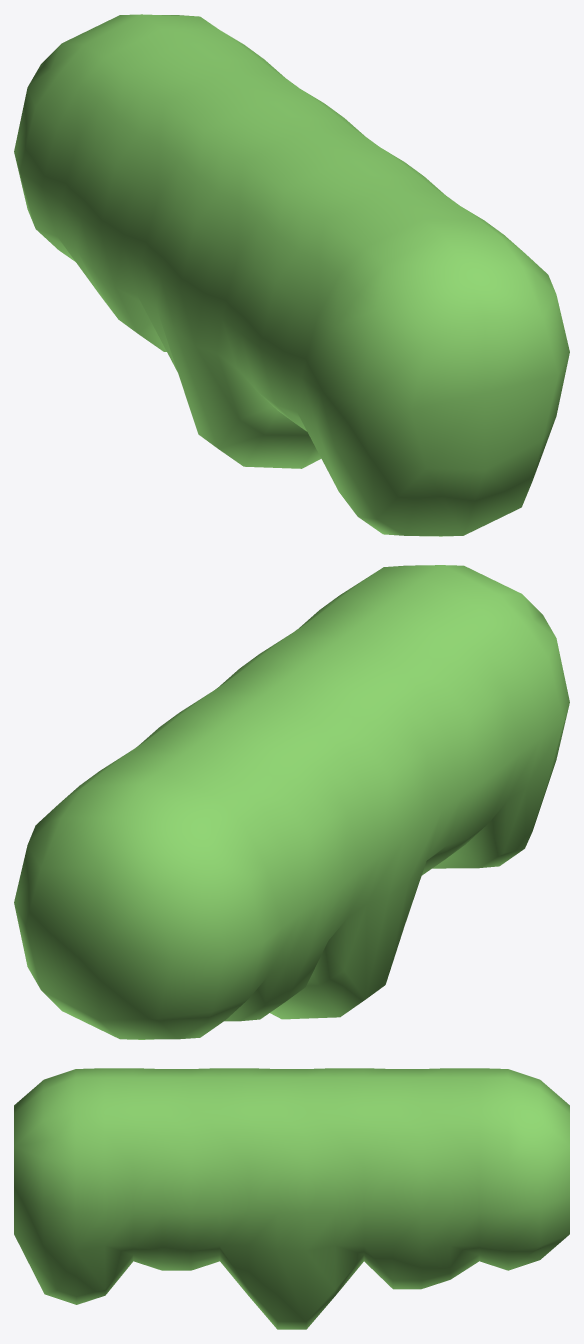
The model's file is grass_proto.fbx.
The picture shows the model from 3 angles, top to bottom: view 1: azimuth 30°, elevation 25°; view 2: azimuth 150°, elevation 25°; view 3: azimuth 270°, elevation 25°; orthographic projection. The views are drawn at different scales.
Parts seen in each view (by area): view 1: Cube; view 2: Cube; view 3: Cube.
Boxes of the visible parts, x1,y1,x2,y2 form: Cube: [14, 14, 569, 536]; Cube: [14, 565, 569, 1039]; Cube: [14, 1068, 569, 1329].
Bounding box in the file's own units: 94.17 × 124 × 258.
